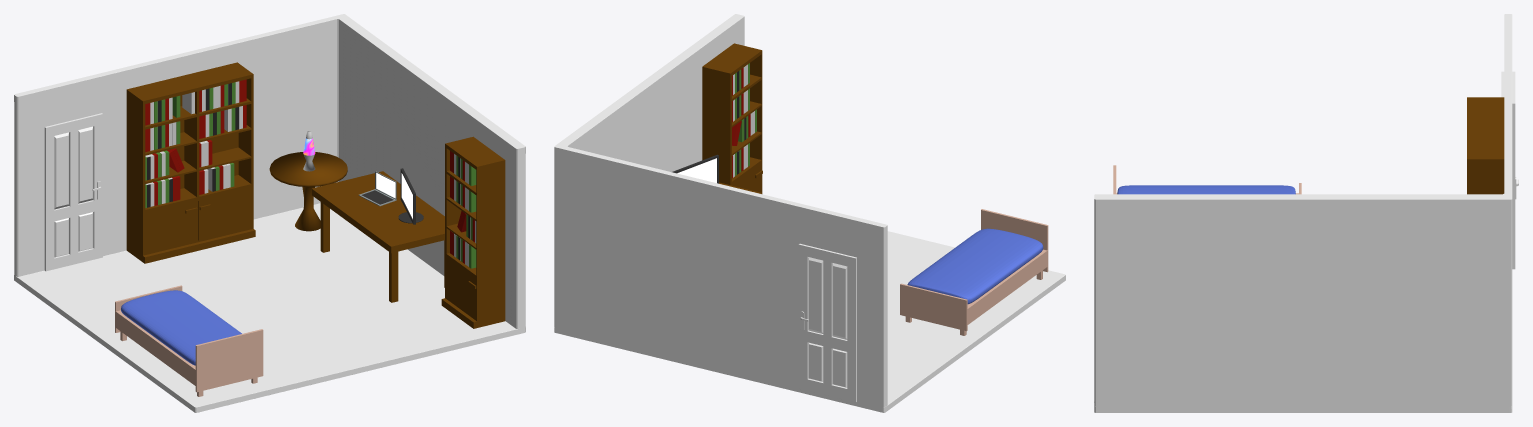
File: RoomModel.glb
3 renders of one model, left to right at view 1: azimuth 30°, elevation 25°; view 2: azimuth 150°, elevation 25°; view 3: azimuth 270°, elevation 25°, orthographic. The views are drawn at different scales.
Visible parts, largest first — view 1: HouseWalls, Bookshelf, Bookshelf.001, Door, Table, Bed, Mattress, SmallTable, Books.005, Books.001, Books, Books.006 (+8 smaller); view 2: HouseWalls, Door, Bookshelf.001, Mattress, Bed, Monitor, Books.008; view 3: HouseWalls, Bookshelf, Mattress, Door.
Boxes of the visible parts, <box> form: HouseWalls: <box>14,14,525,412</box>; Bookshelf: <box>126,62,255,263</box>; Bookshelf.001: <box>441,136,505,328</box>; Door: <box>44,113,102,271</box>; Table: <box>311,171,444,302</box>; Bed: <box>115,285,263,396</box>; Mattress: <box>121,290,241,365</box>; SmallTable: <box>269,152,347,231</box>; Books.005: <box>199,140,234,194</box>; Books.001: <box>199,105,246,138</box>; Books: <box>199,79,246,112</box>; Books.006: <box>145,92,194,125</box>; HouseWalls: <box>554,14,1065,412</box>; Door: <box>798,243,856,402</box>; Bookshelf.001: <box>702,43,762,192</box>; Mattress: <box>907,228,1043,304</box>; Bed: <box>900,209,1048,335</box>; Monitor: <box>672,154,718,183</box>; Books.008: <box>732,109,756,145</box>; HouseWalls: <box>1094,14,1512,412</box>; Bookshelf: <box>1467,97,1504,194</box>; Mattress: <box>1117,185,1295,194</box>; Door: <box>1501,71,1518,269</box>.
Size of the model in its own units: 9.62 by 5.15 by 9.3.
